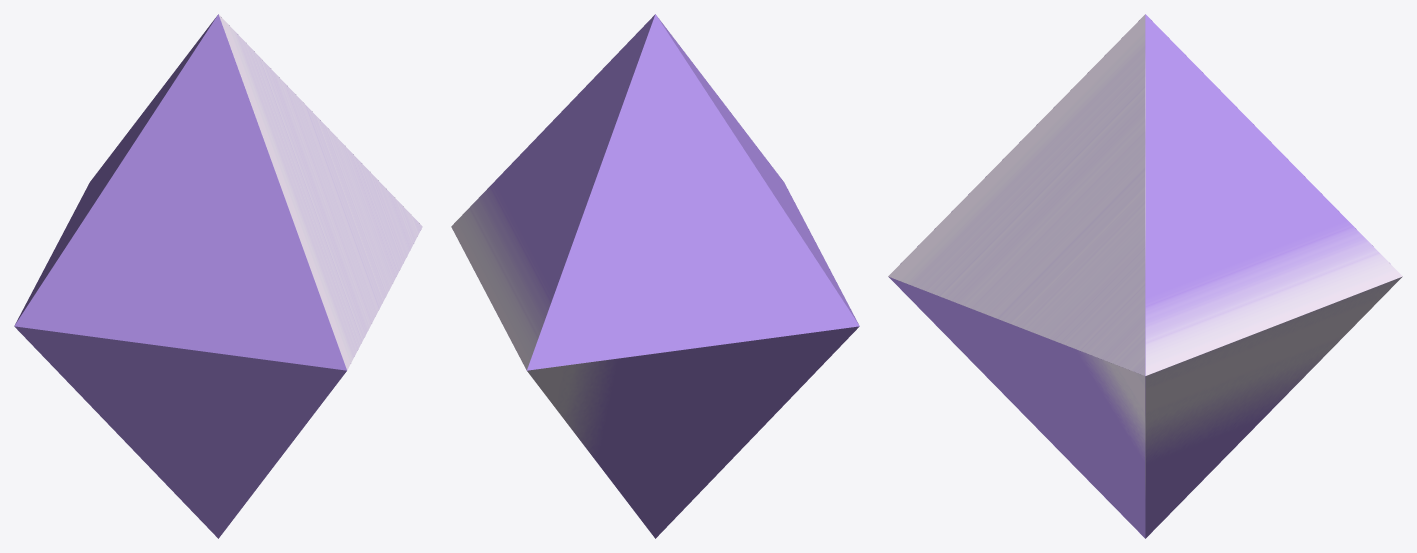
Rendered from core.fbx.
The picture shows the model from 3 angles, left to right: view 1: azimuth 30°, elevation 25°; view 2: azimuth 150°, elevation 25°; view 3: azimuth 270°, elevation 25°; orthographic projection.
Visible parts, largest first — view 1: 立方体; view 2: 立方体; view 3: 立方体.
Boxes of the visible parts, x1,y1,x2,y2 form: 立方体: (14, 14, 422, 538); 立方体: (451, 14, 859, 538); 立方体: (888, 14, 1402, 538).
Size of the model in its own units: 330 by 405 by 360.
Materials: 1 (1 with a texture image).
